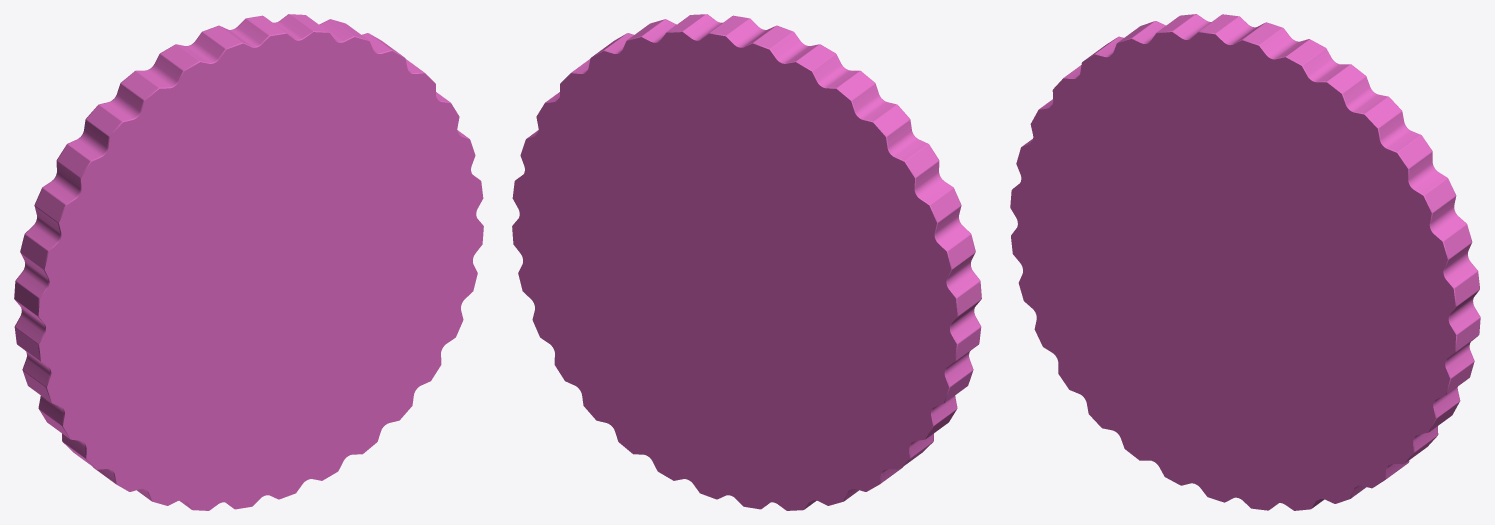
File: Molette_UV (2).fbx
3 views of the same model, side by side, from view 1: azimuth 30°, elevation 25°; view 2: azimuth 150°, elevation 25°; view 3: azimuth 330°, elevation 25° (orthographic).
Parts seen in each view (by area): view 1: Molette; view 2: Molette; view 3: Molette.
Boxes of the visible parts, x1=… form: Molette: x1=14, y1=14, x2=483, y2=510; Molette: x1=512, y1=14, x2=981, y2=510; Molette: x1=1010, y1=14, x2=1480, y2=510.
Size of the model in its own units: 296 by 296 by 28.05.
